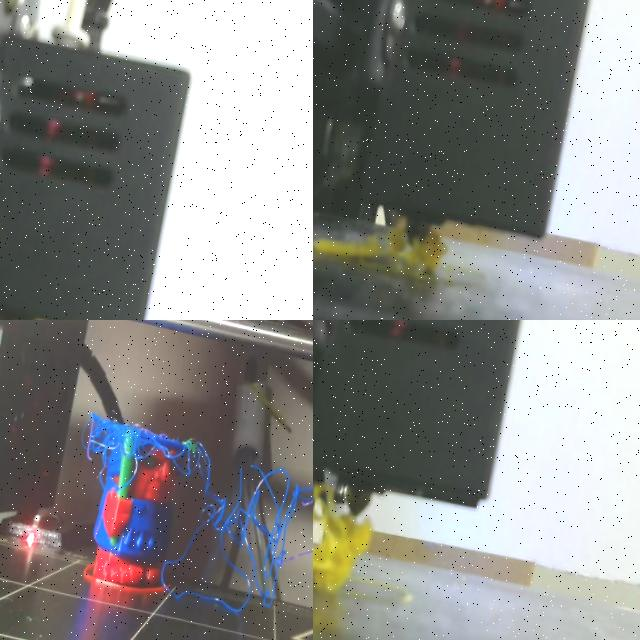spaghetti: (160, 396, 313, 640), (66, 386, 197, 501), (313, 217, 446, 275), (313, 483, 372, 592)
